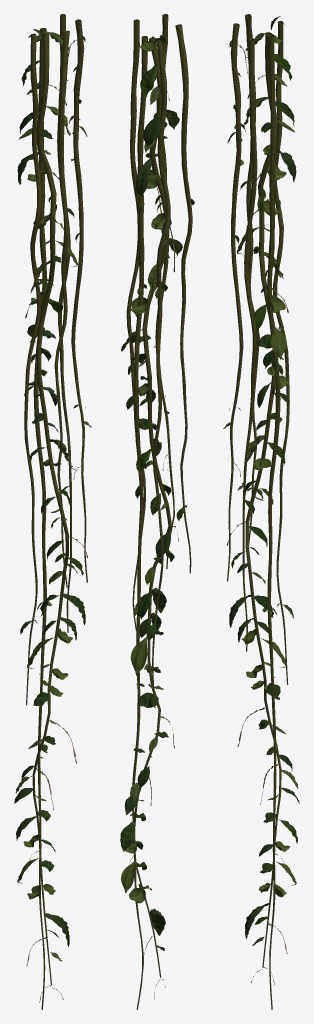
File: SM_Vine_A.fbx
3 renders of one model, left to right at view 1: azimuth 90°, elevation 25°; view 2: azimuth 150°, elevation 25°; view 3: azimuth 270°, elevation 25°, orthographic.
Visible parts, largest first — view 1: SM_Vine_A_LOD0; view 2: SM_Vine_A_LOD0; view 3: SM_Vine_A_LOD0.
Part boxes in pixels (x1,y1,x2,y2): SM_Vine_A_LOD0: [14, 14, 91, 1009]; SM_Vine_A_LOD0: [120, 14, 194, 1009]; SM_Vine_A_LOD0: [223, 14, 299, 1009].
Bounding box in the file's own units: 69.71 × 74.05 × 1048.
